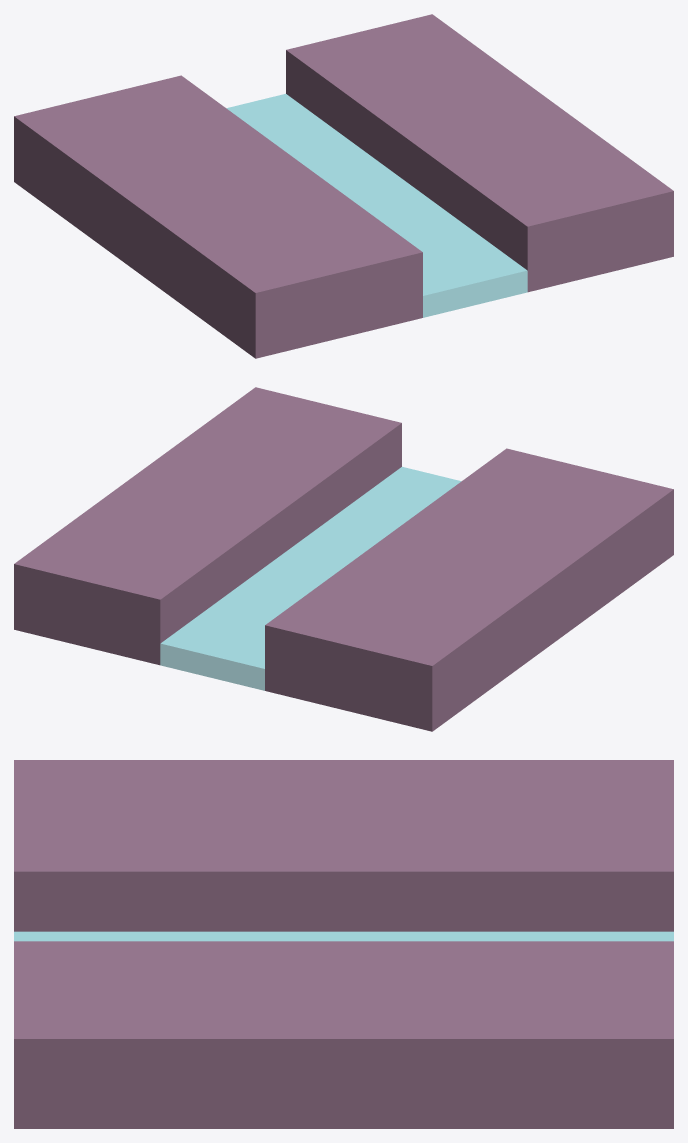
The model's file is alien-biosphere-channel-tile-3b2b218b__22762.glb.
The picture shows the model from 3 angles, top to bottom: view 1: azimuth 30°, elevation 25°; view 2: azimuth 150°, elevation 25°; view 3: azimuth 270°, elevation 25°; orthographic projection. The views are drawn at different scales.
Visible parts, largest first — view 1: channel-tile; view 2: channel-tile; view 3: channel-tile.
Boxes of the visible parts, x1,y1,x2,y2 form: channel-tile: (14,14,673,358); channel-tile: (14,387,673,731); channel-tile: (14,760,673,1128).
Size of the model in its own units: 4 by 0.6002 by 4.
